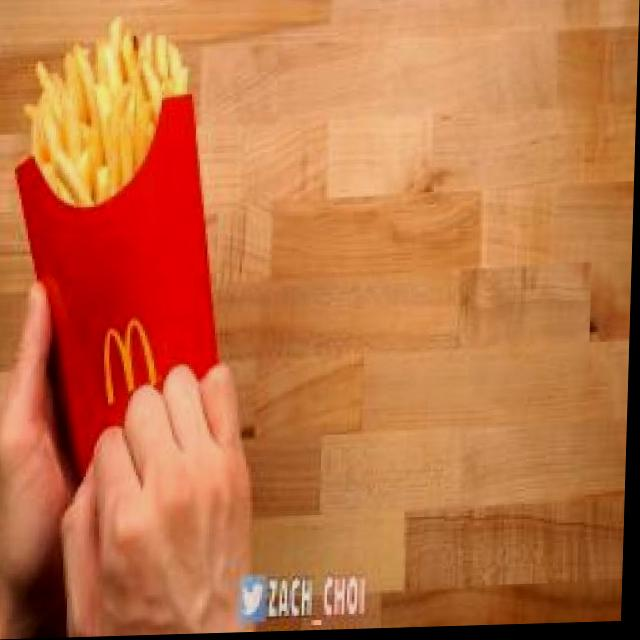french fries: (2, 16, 252, 270)
